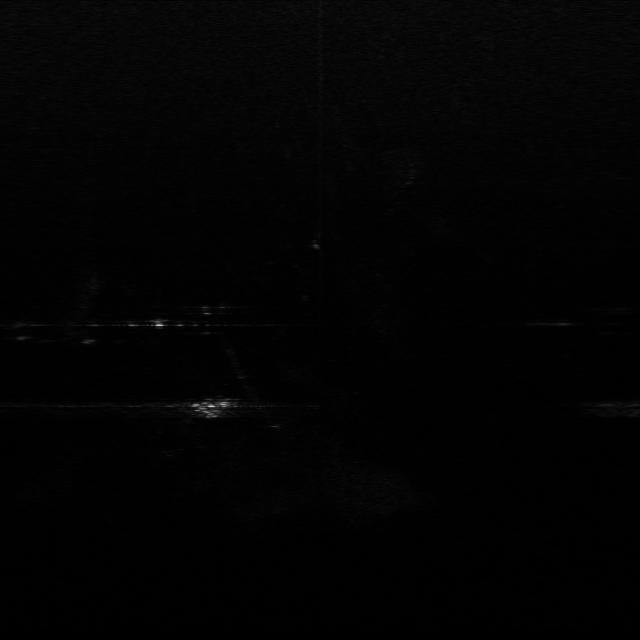rov: (189, 398, 233, 421)
